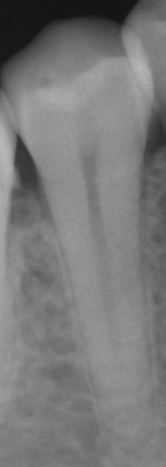tooth: (0, 13, 156, 453)
